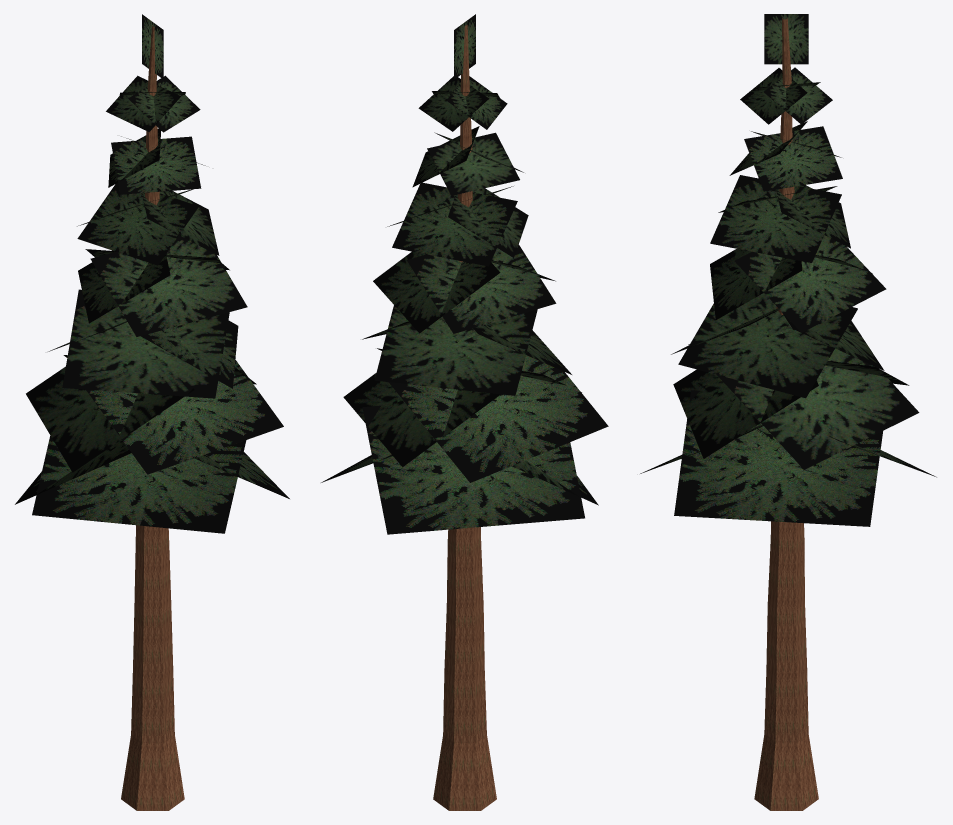
Rendered from Pine_Giant_2_LOD2.gltf.
The picture shows the model from 3 angles, left to right: view 1: azimuth 30°, elevation 25°; view 2: azimuth 150°, elevation 25°; view 3: azimuth 270°, elevation 25°; orthographic projection.
Visible parts, largest first — view 1: Pine_Giant_2_LOD2; view 2: Pine_Giant_2_LOD2; view 3: Pine_Giant_2_LOD2.
Boxes of the visible parts, x1,y1,x2,y2 form: Pine_Giant_2_LOD2: [15, 14, 289, 810]; Pine_Giant_2_LOD2: [321, 14, 608, 810]; Pine_Giant_2_LOD2: [640, 14, 936, 810].
Size of the model in its own units: 14.19 by 43.48 by 15.11.
2 materials, 2 textured.
